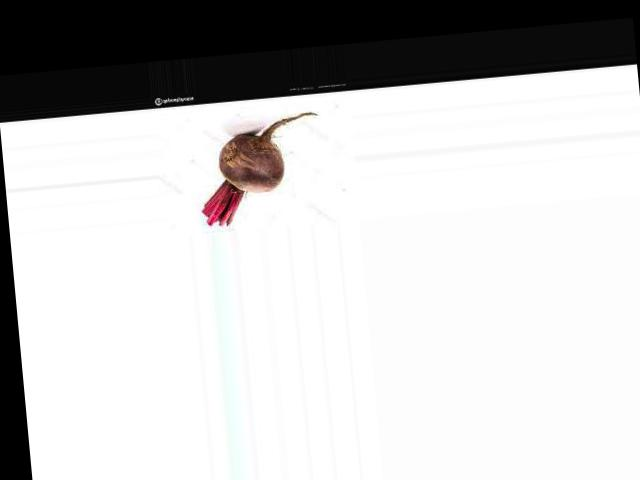beet: (194, 111, 327, 227)
